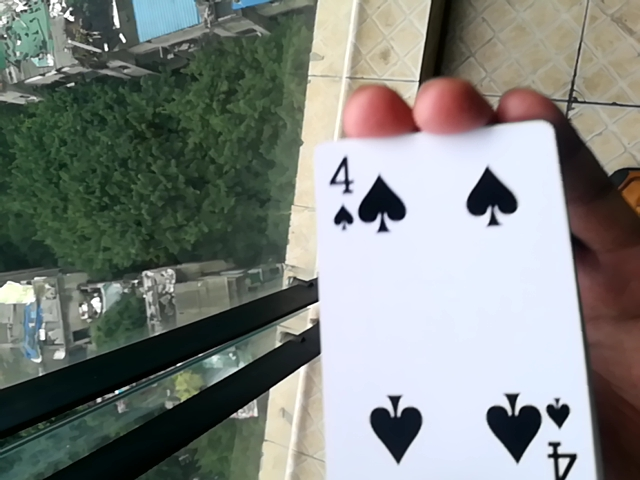ht 4: (304, 132, 612, 479)
